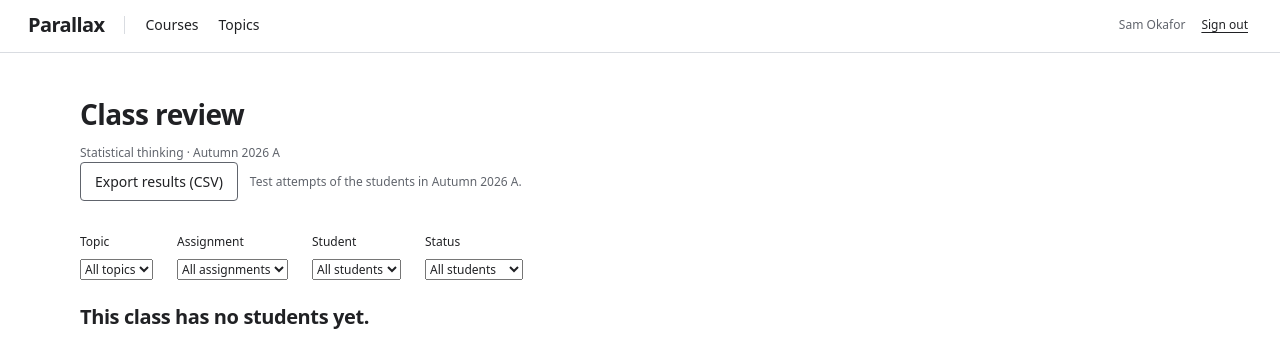
Test case: results export › A21 Export results (CSV) asks for the selected class only and links the file after the server answered
The width and height of the screenshot is (1280, 364).
Expected: the link "results-autumn" is not shown
Click the button "Export results (CSV)": (159, 182) [80,162,238,201]
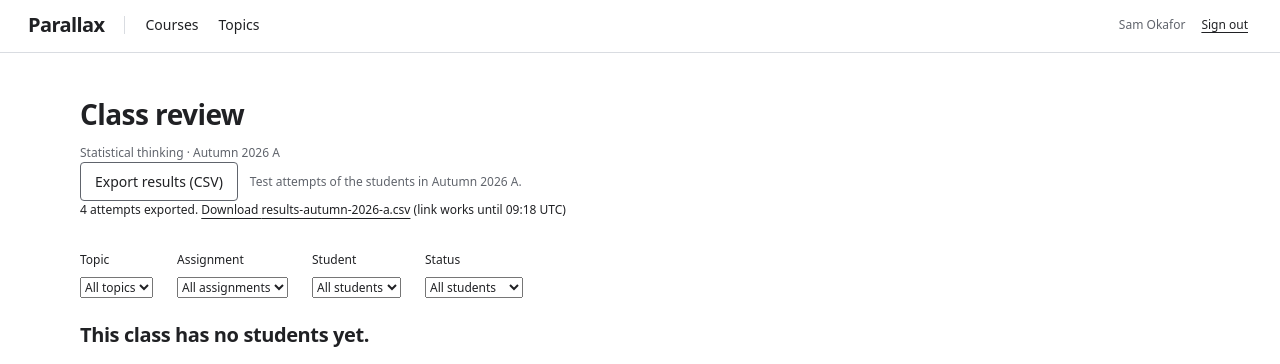
Expected: the element "Download results-autumn-2026-a.csv" shows "4 attempts exported", [80,201,566,218]
